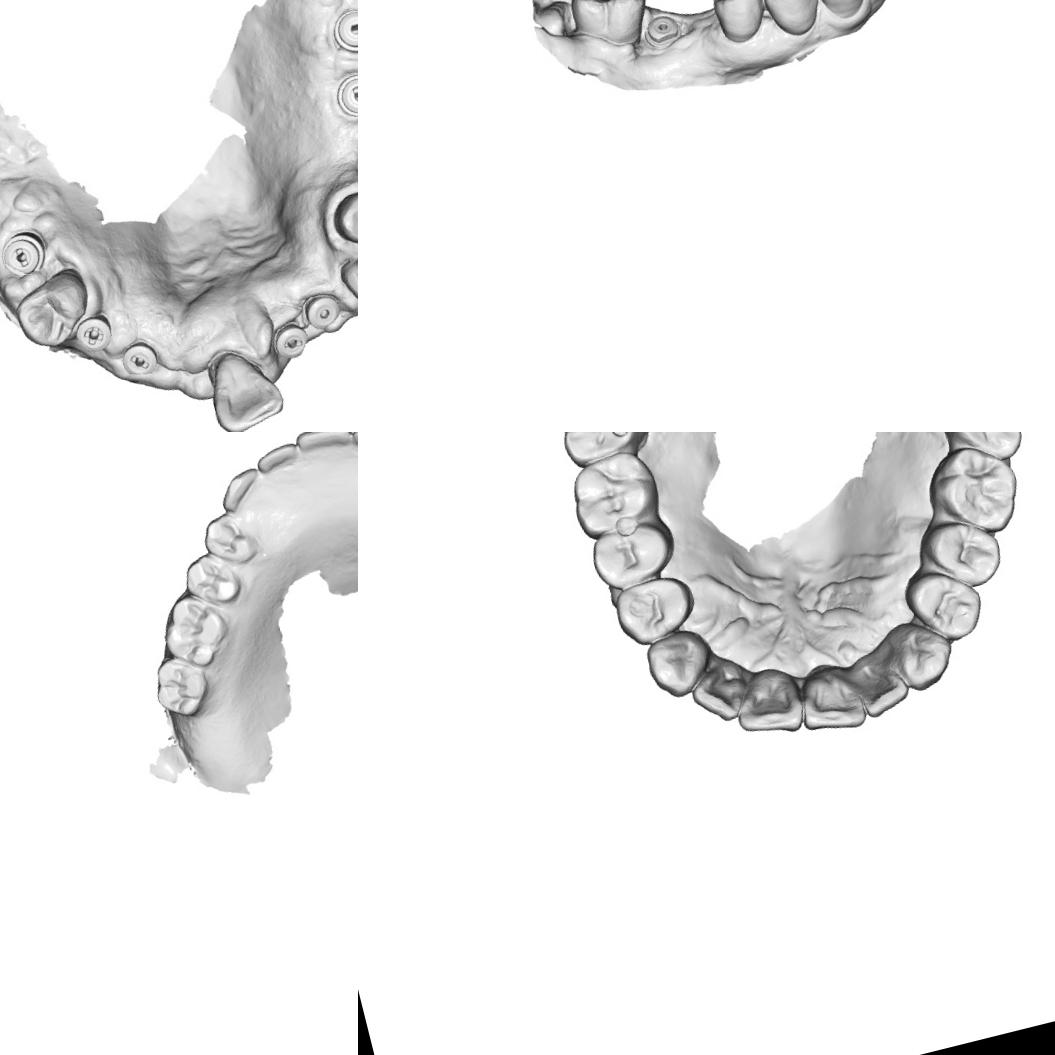canine: (639, 624, 719, 702), (888, 616, 958, 696), (212, 462, 271, 512), (335, 245, 358, 325), (809, 0, 874, 23)
implant: (300, 289, 344, 332), (640, 10, 686, 51), (329, 4, 358, 54)
implant_minus: (0, 229, 47, 277), (270, 321, 311, 362), (118, 339, 160, 379), (332, 68, 358, 121)
implant_plus: (72, 310, 117, 356)
incisor: (199, 342, 288, 432), (788, 660, 872, 742), (728, 666, 812, 746), (686, 662, 754, 730), (851, 655, 915, 720), (250, 432, 301, 484), (293, 432, 354, 468)
molar: (918, 436, 1029, 546), (560, 444, 668, 542), (153, 585, 238, 674), (562, 0, 658, 57), (147, 648, 215, 723), (930, 432, 1034, 471), (549, 432, 655, 470)
premolar: (7, 262, 98, 354), (900, 558, 990, 650), (916, 509, 1009, 598), (584, 514, 680, 592), (607, 570, 701, 649), (181, 544, 254, 617), (196, 506, 262, 570), (705, 0, 773, 47), (757, 0, 828, 42), (326, 178, 358, 261)
